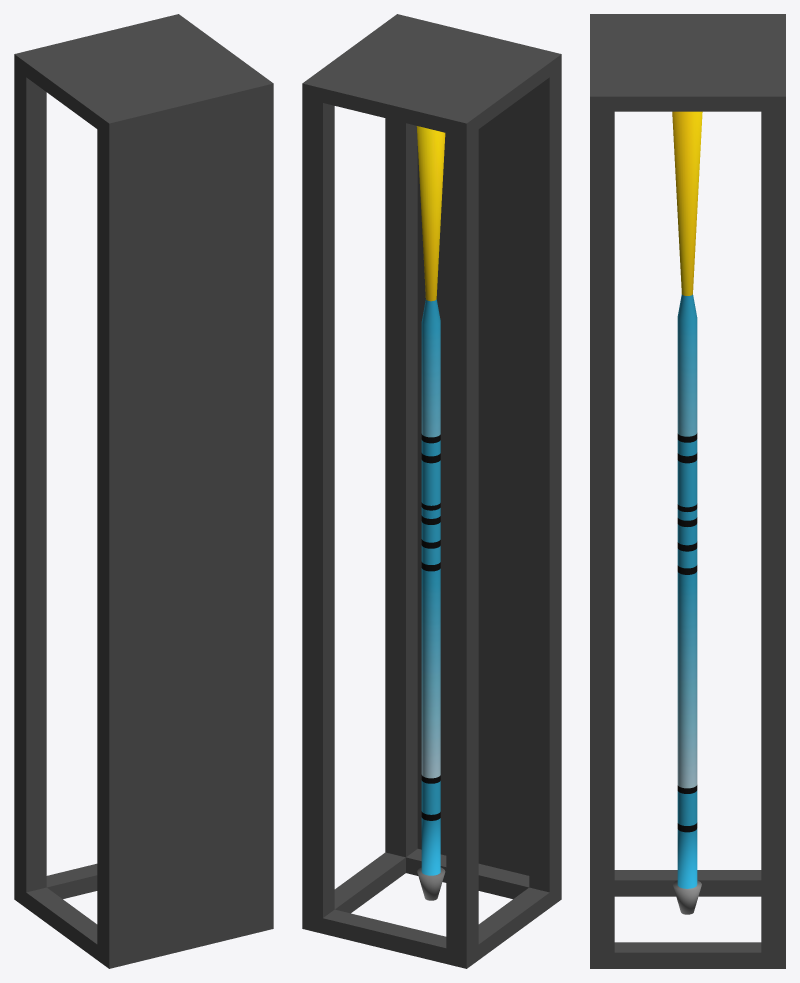
Rendered from Torre de destilación pequeña.fbx.
3 views of the same model, side by side, from view 1: azimuth 30°, elevation 25°; view 2: azimuth 150°, elevation 25°; view 3: azimuth 270°, elevation 25° (orthographic). The views are drawn at different scales.
Visible parts, largest first — view 1: Cube; view 2: Cube; view 3: Cube.
Boxes of the visible parts, left/top/right/bottom form: Cube: left=14, top=14, right=273, bottom=968; Cube: left=302, top=14, right=561, bottom=968; Cube: left=590, top=14, right=785, bottom=968.
Bounding box in the file's own units: 200 × 983 × 200.
